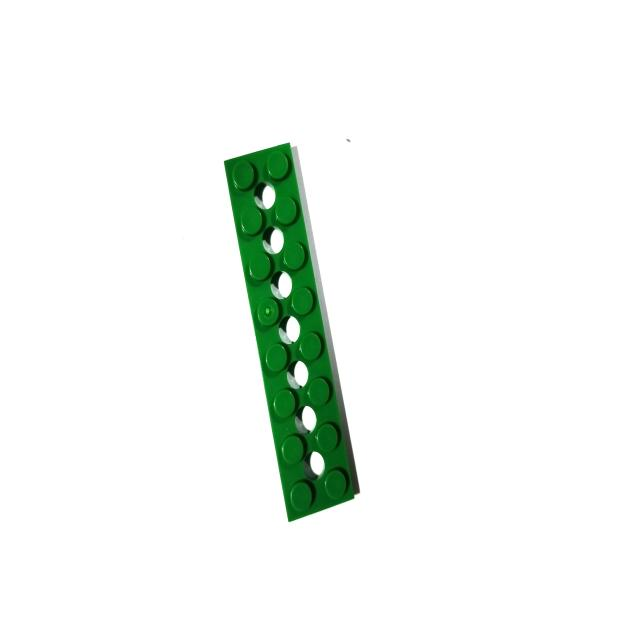Green_Large: (225, 141, 356, 523)
